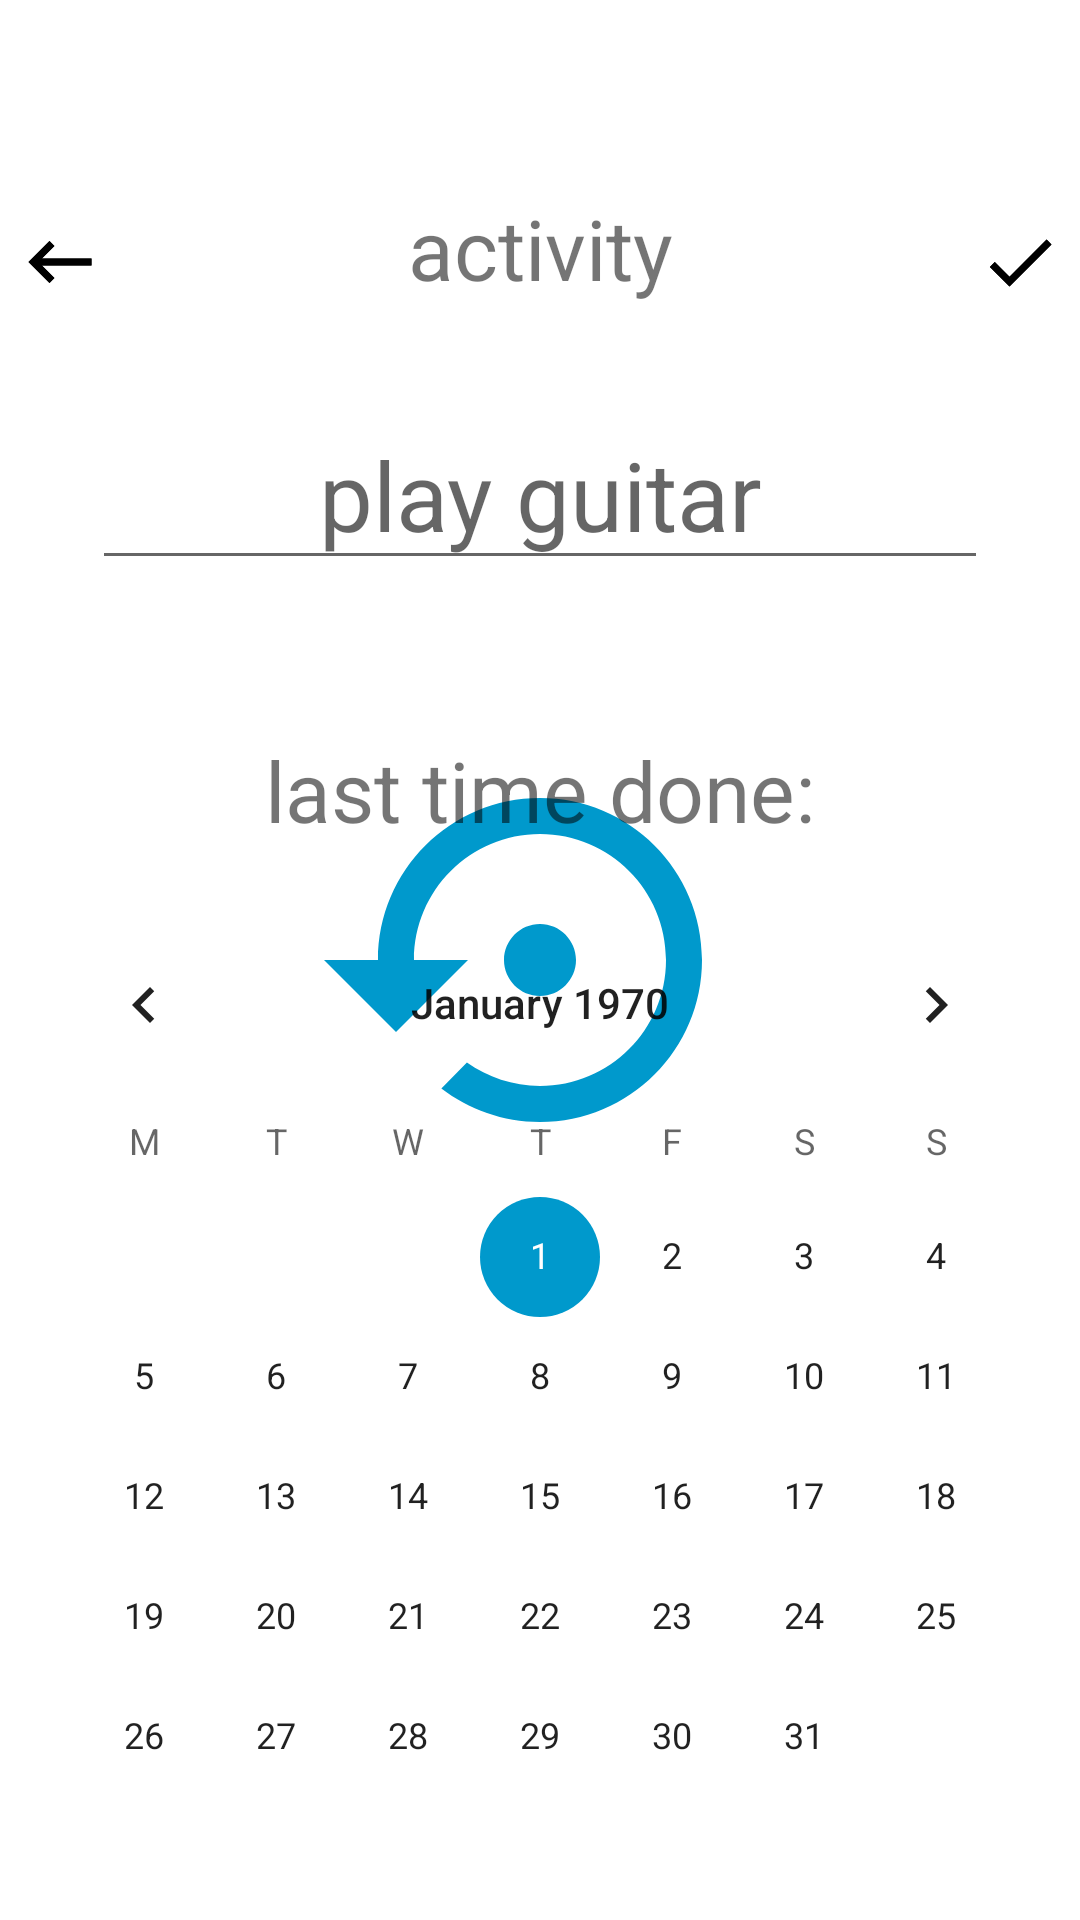

Named icons in this screenshot (1080 × 1920) and their centers, point (x, y):
back: point (60, 262)
done: point (1021, 263)
